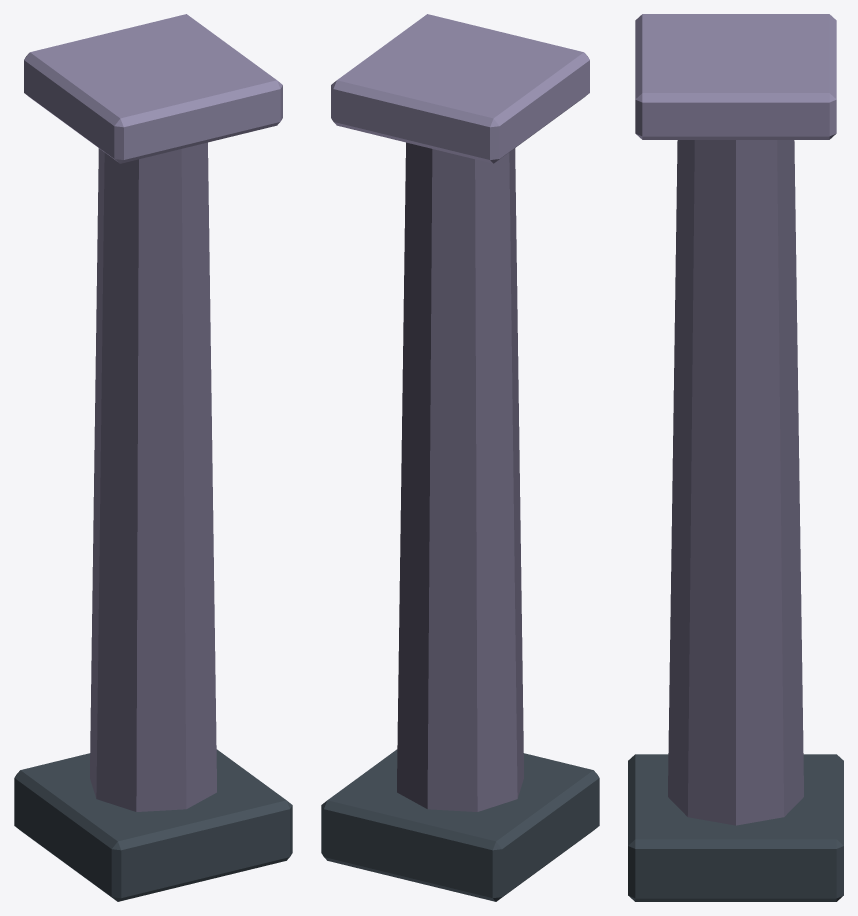
Rendered from SH10_L09_Pillar.fbx.
The picture shows the model from 3 angles, left to right: view 1: azimuth 30°, elevation 25°; view 2: azimuth 150°, elevation 25°; view 3: azimuth 270°, elevation 25°; orthographic projection. The views are drawn at different scales.
Parts seen in each view (by area): view 1: SH10_L09_Pillar; view 2: SH10_L09_Pillar; view 3: SH10_L09_Pillar.
Part boxes in pixels (x1,y1,x2,y2): SH10_L09_Pillar: [14, 14, 292, 901]; SH10_L09_Pillar: [321, 14, 599, 901]; SH10_L09_Pillar: [628, 14, 843, 901].
Size of the model in its own units: 75 by 309 by 75.
